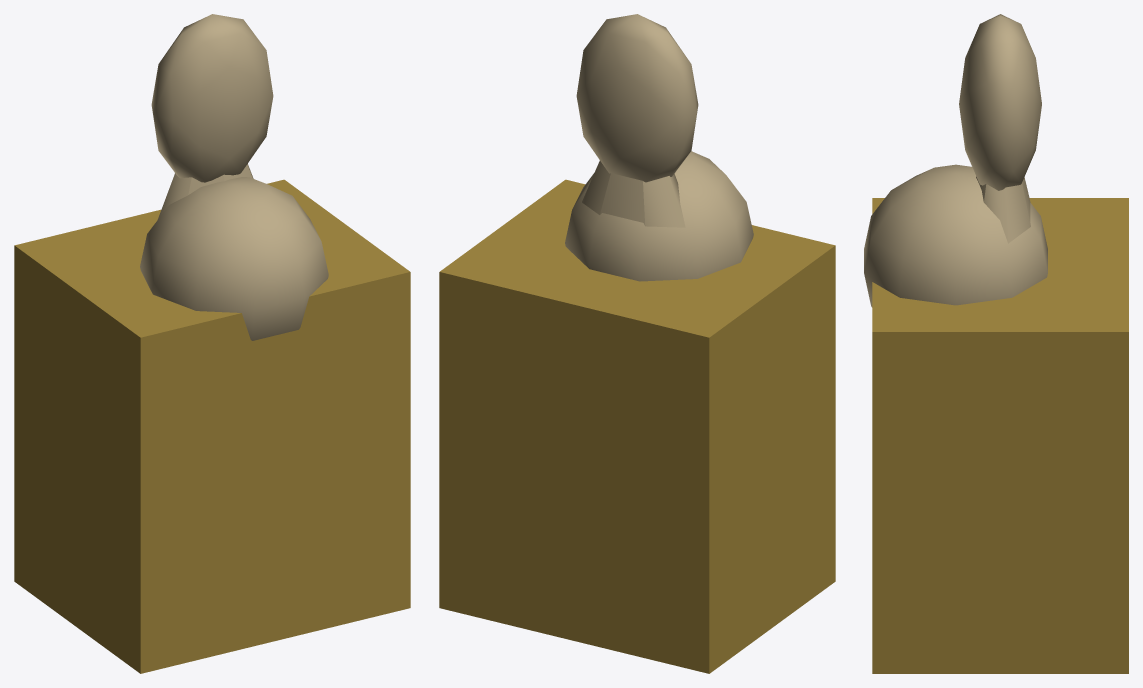
The model's file is farm_elite.glb.
The picture shows the model from 3 angles, left to right: view 1: azimuth 30°, elevation 25°; view 2: azimuth 150°, elevation 25°; view 3: azimuth 270°, elevation 25°; orthographic projection.
Visible parts, largest first — view 1: CoreBody, Head, ELITE_farm_crest, MOTIF_farm_sprout; view 2: CoreBody, ELITE_farm_crest, Head, MOTIF_farm_sprout; view 3: CoreBody, Head, ELITE_farm_crest, MOTIF_farm_sprout.
Boxes of the visible parts, box(x1,y1,x2,y2) form: CoreBody: box(14, 179, 410, 673); Head: box(140, 177, 328, 340); ELITE_farm_crest: box(151, 14, 273, 182); MOTIF_farm_sprout: box(157, 164, 253, 219); CoreBody: box(439, 179, 835, 673); ELITE_farm_crest: box(576, 14, 698, 182); Head: box(565, 151, 753, 281); MOTIF_farm_sprout: box(582, 160, 685, 227); CoreBody: box(872, 198, 1128, 673); Head: box(864, 164, 1047, 307); ELITE_farm_crest: box(959, 14, 1041, 190); MOTIF_farm_sprout: box(976, 176, 1030, 243).
Size of the model in its own units: 1.28 by 2.63 by 1.07.
